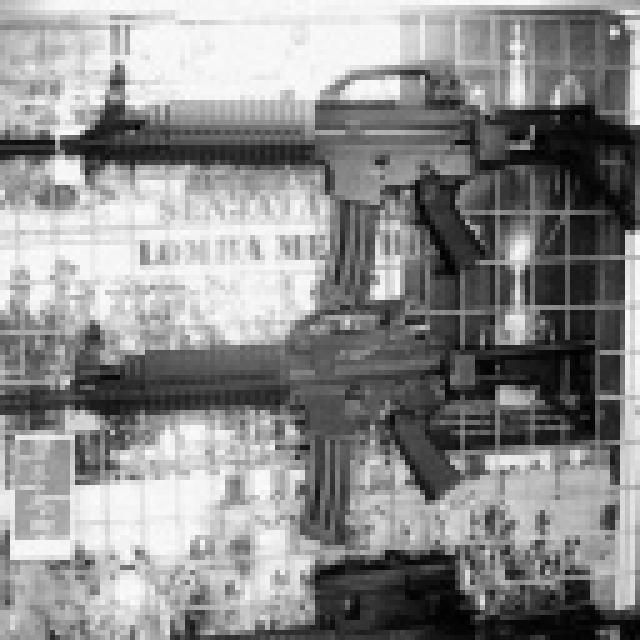Rifle: (0, 41, 640, 323), (0, 300, 640, 545)
